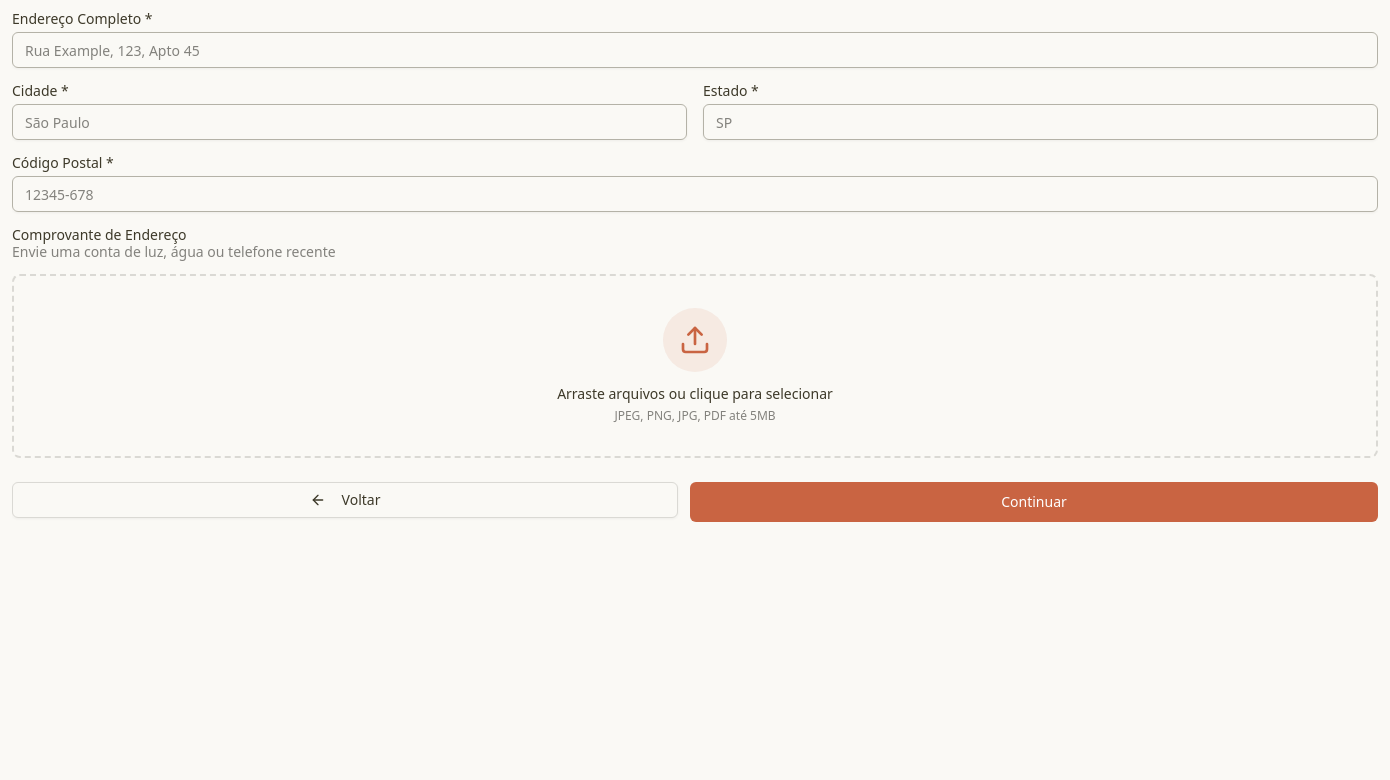
it: AddressStep › should display validation error for short street address
In the field labelled "Endereço Completo *": x=695, y=50 [12, 32, 1378, 68], type "Rua"
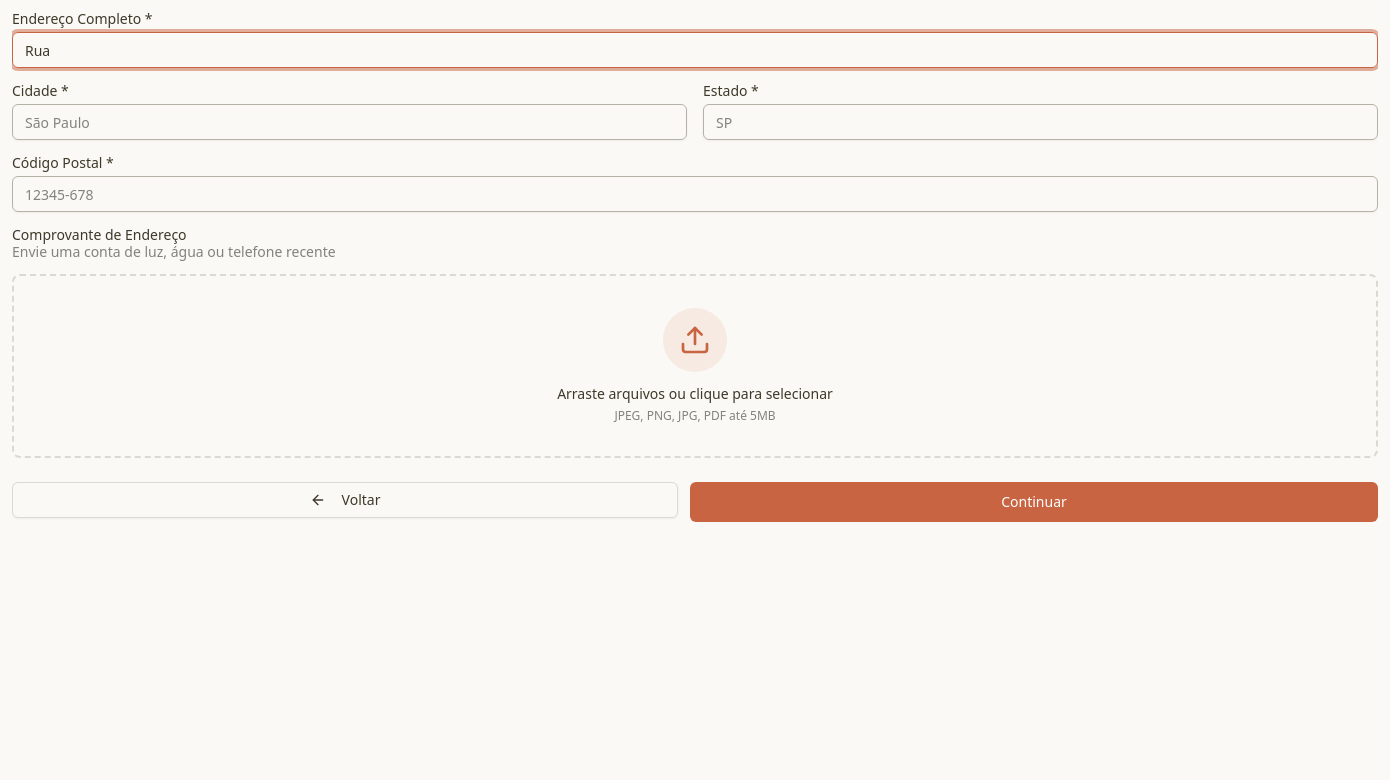
Click the button "Continuar": x=1034, y=502 [690, 482, 1378, 522]
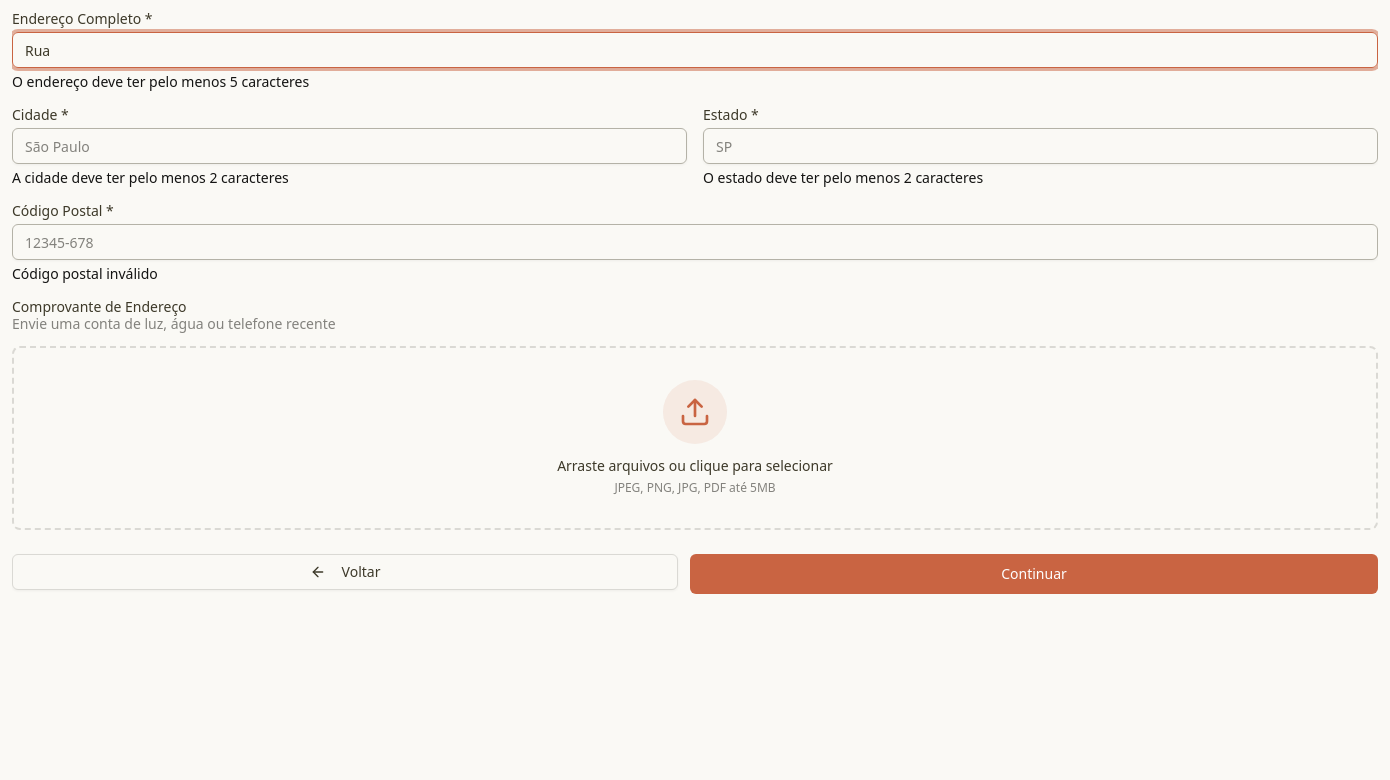
Now the text "O endereço deve ter pelo menos 5 caracteres" is shown, box [12, 72, 309, 91]
